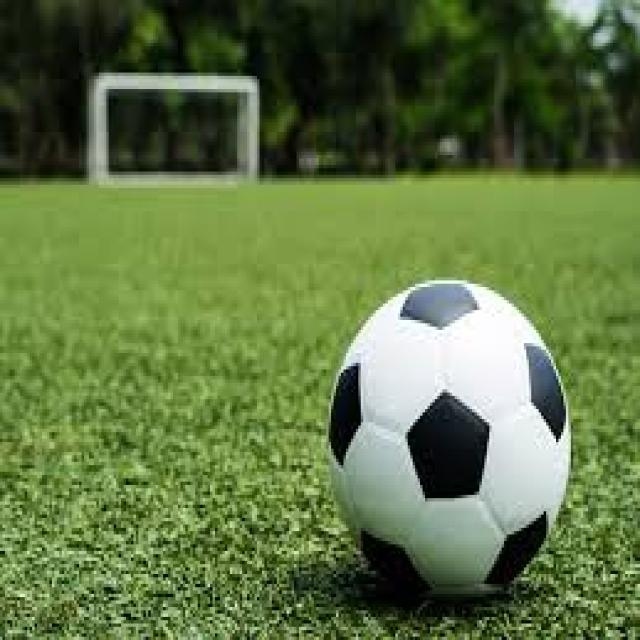ball: (328, 280, 572, 605)
